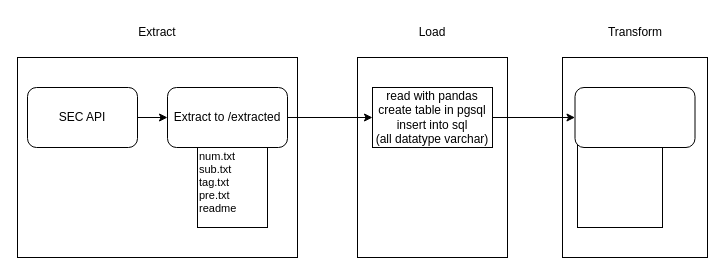
The diagram is 725 pixels wide and 275 high, and some of its shapes have lost their labels. The shapes that lost their labels are listed below. From the top down, each one's centre as x and y in pixels, then its label:
[634,117]: Tranformation
[619,182]: delete cols change dtype make views make startschema
